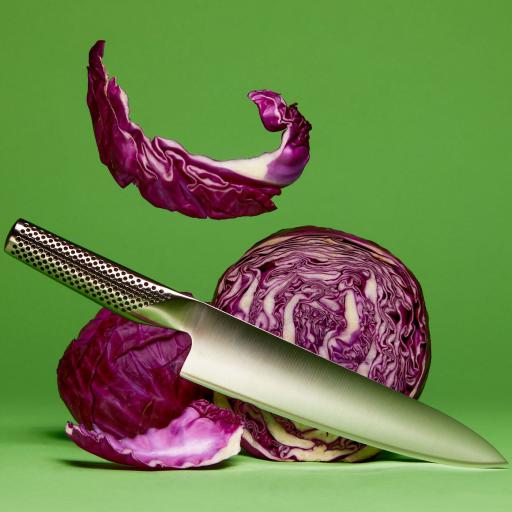knife: (0, 216, 499, 469)
